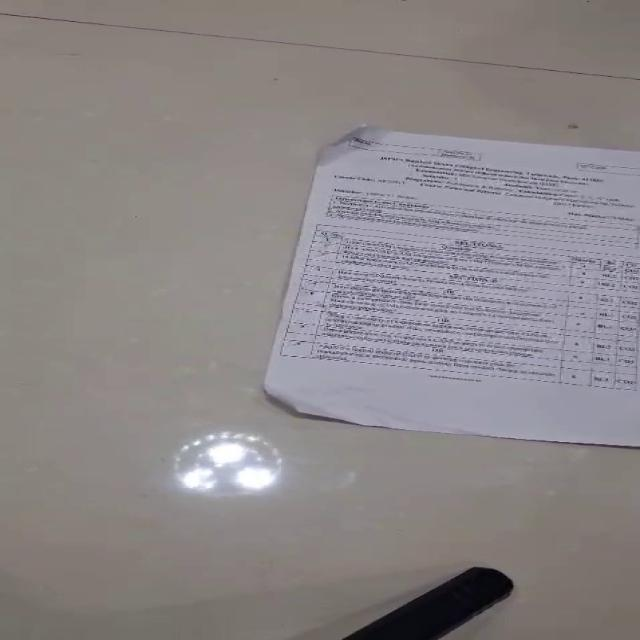paper: (261, 123, 639, 447)
